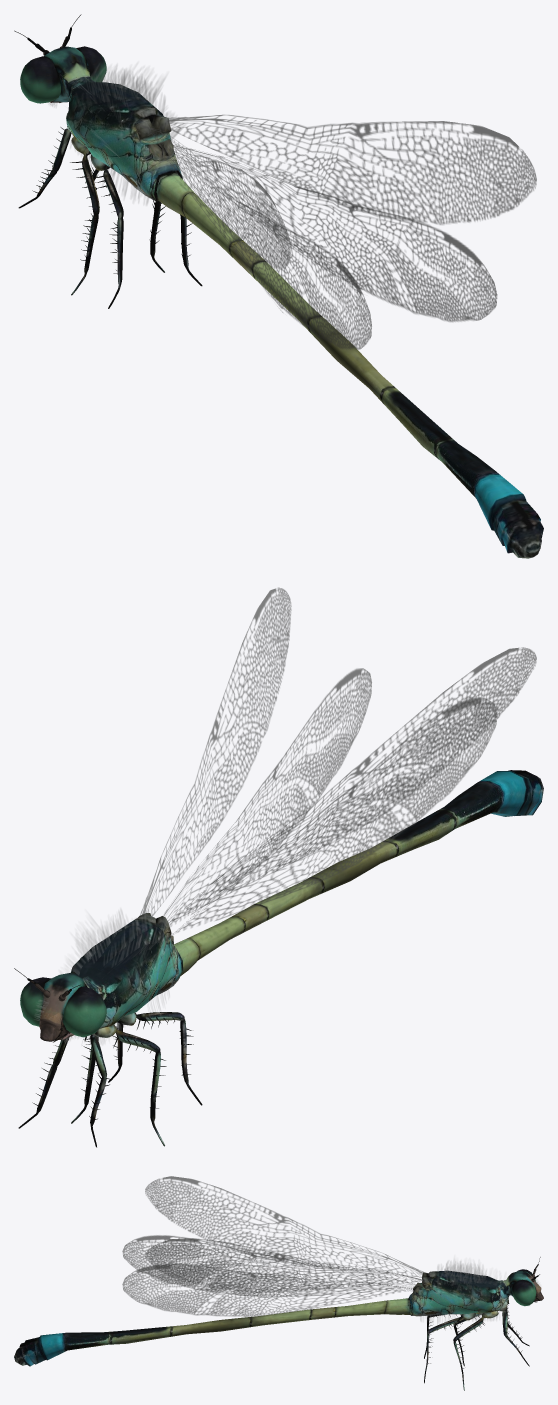
The model's file is dragonfly.glb.
3 views of the same model, one above another, from view 1: azimuth 30°, elevation 25°; view 2: azimuth 150°, elevation 25°; view 3: azimuth 270°, elevation 25° (orthographic). The views are drawn at different scales.
Visible parts, largest first — view 1: Plane.001_3, Cube_1, Plane.003_5, Plane.004_6, Sphere_2; view 2: Plane.001_3, Cube_1, Plane.003_5, Sphere_2, Plane.004_6; view 3: Plane.001_3, Cube_1, Plane.003_5, Plane.004_6, Sphere_2.
Part boxes in pixels (box(x1,y1,x2,y2)): Plane.001_3: box(140, 114, 536, 349); Cube_1: box(44, 46, 543, 558); Plane.003_5: box(18, 113, 202, 308); Plane.004_6: box(49, 63, 185, 204); Sphere_2: box(20, 46, 106, 103); Plane.001_3: box(140, 587, 536, 935); Cube_1: box(39, 770, 543, 1041); Plane.003_5: box(18, 1012, 202, 1147); Sphere_2: box(20, 977, 106, 1037); Plane.004_6: box(36, 909, 181, 1044); Plane.001_3: box(122, 1176, 424, 1318); Cube_1: box(14, 1270, 543, 1366); Plane.003_5: box(424, 1301, 536, 1390); Plane.004_6: box(420, 1257, 540, 1324); Sphere_2: box(512, 1269, 536, 1306).
Bounding box in the file's own units: 2.34 × 2.84 × 8.
Materials: 3 (3 with a texture image).
